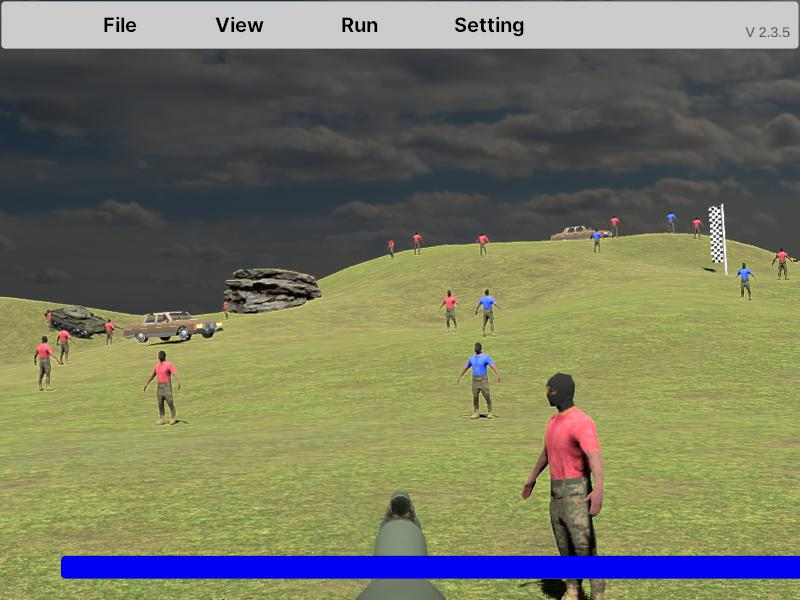Human: (522, 371, 604, 599), (457, 342, 500, 420), (145, 350, 181, 425), (34, 335, 60, 392), (475, 288, 502, 337), (439, 289, 462, 334), (55, 323, 74, 366)
Tank: (45, 306, 111, 338)
car: (123, 311, 224, 343)
